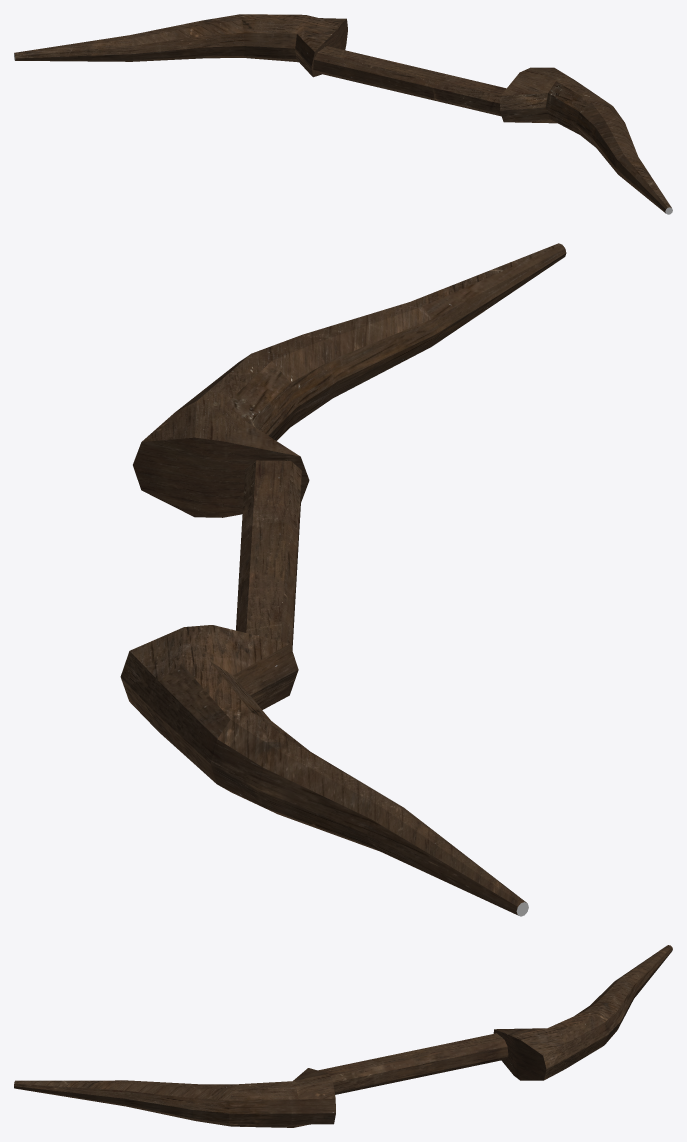
The model's file is BowNoString.fbx.
3 views of the same model, one above another, from view 1: azimuth 30°, elevation 25°; view 2: azimuth 150°, elevation 25°; view 3: azimuth 270°, elevation 25° (orthographic). The views are drawn at different scales.
Parts seen in each view (by area): view 1: polySurface2; view 2: polySurface2; view 3: polySurface2.
Boxes of the visible parts, x1,y1,x2,y2 form: polySurface2: [14, 14, 672, 214]; polySurface2: [120, 243, 566, 916]; polySurface2: [14, 945, 672, 1127].
Size of the model in its own units: 10.17 by 1.23 by 15.83.
Materials: 2 (1 with a texture image).
